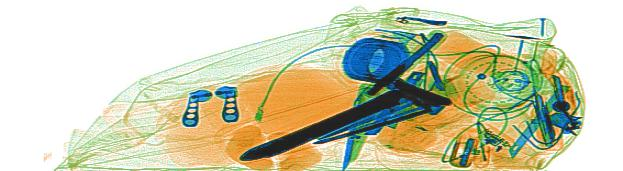knife: (507, 82, 570, 161), (340, 91, 363, 170)
